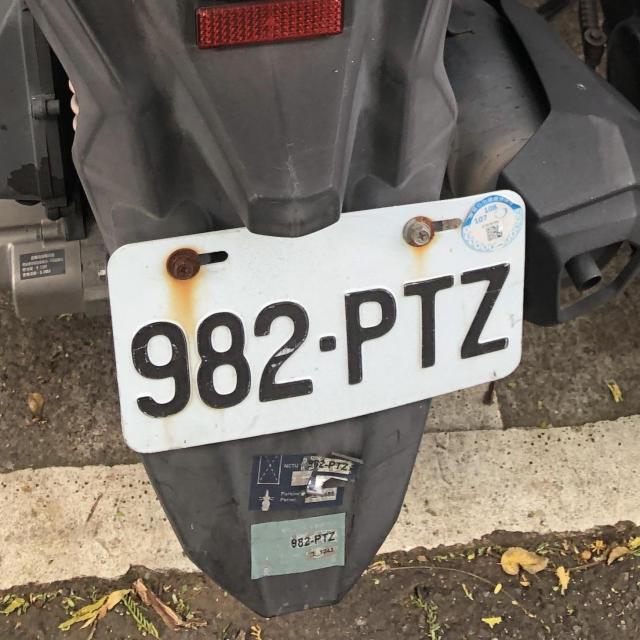W: (97, 193, 540, 449)
